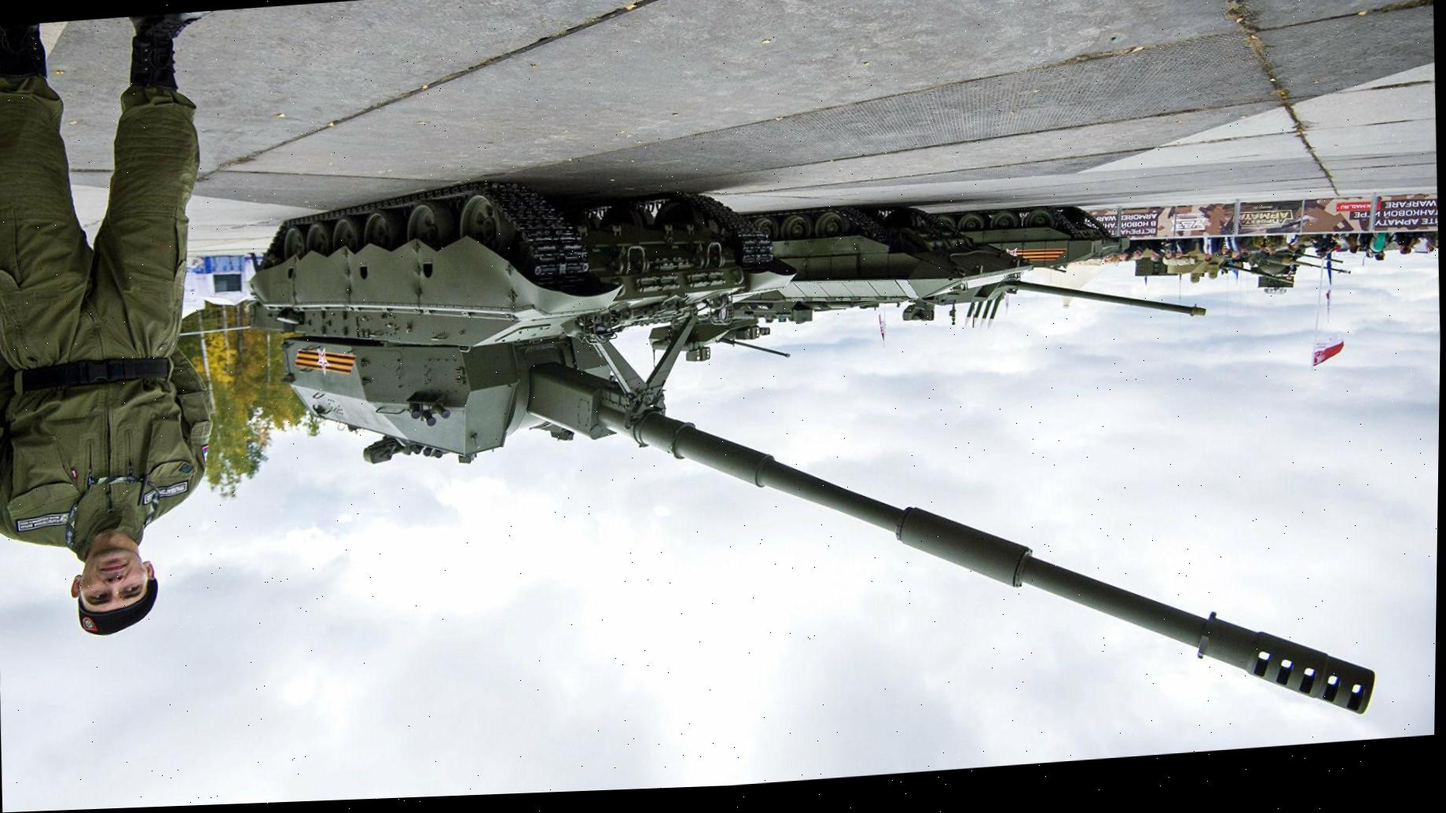sau: (229, 124, 1381, 804)
tank: (676, 187, 1028, 364), (944, 186, 1216, 339)
